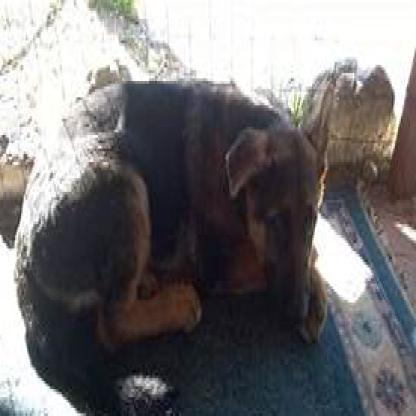dog: (13, 76, 340, 413)
